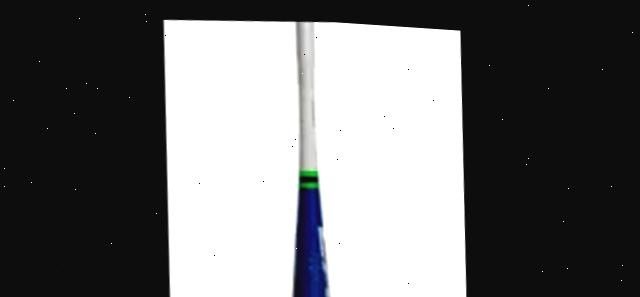baseball bat: (276, 15, 345, 297)
